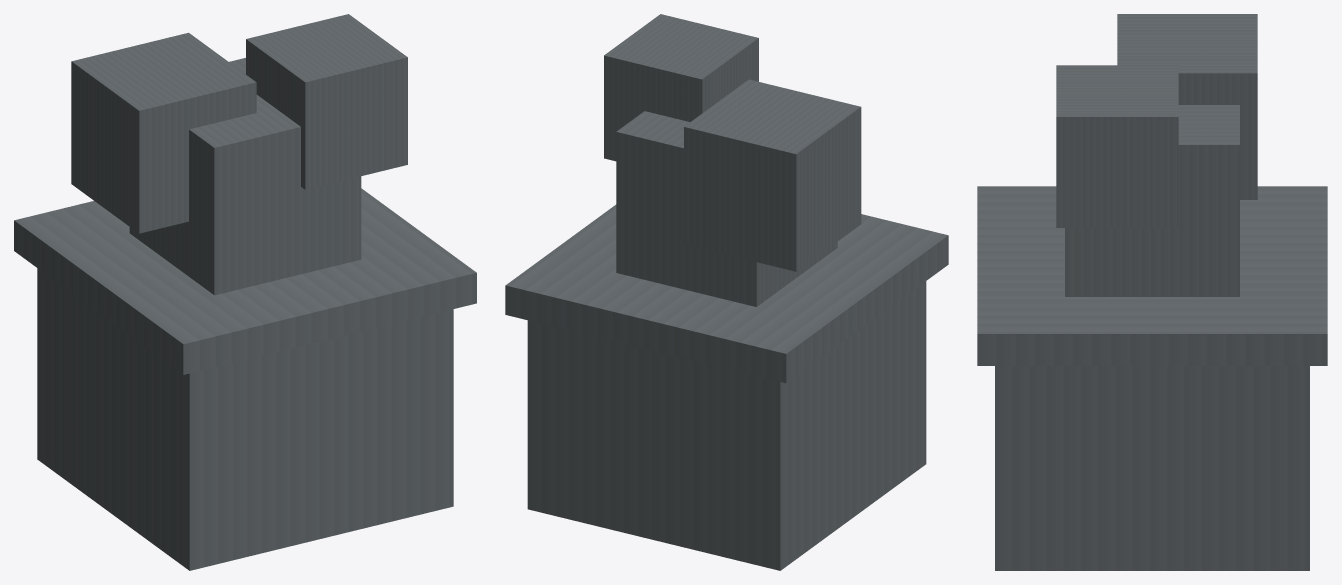
The model's file is planter.obj.
3 renders of one model, left to right at view 1: azimuth 30°, elevation 25°; view 2: azimuth 150°, elevation 25°; view 3: azimuth 270°, elevation 25°, orthographic. The views are drawn at different scales.
Bounding box in the file's own units: 1 × 1.4 × 1.
Materials: 1 (1 with a texture image).
